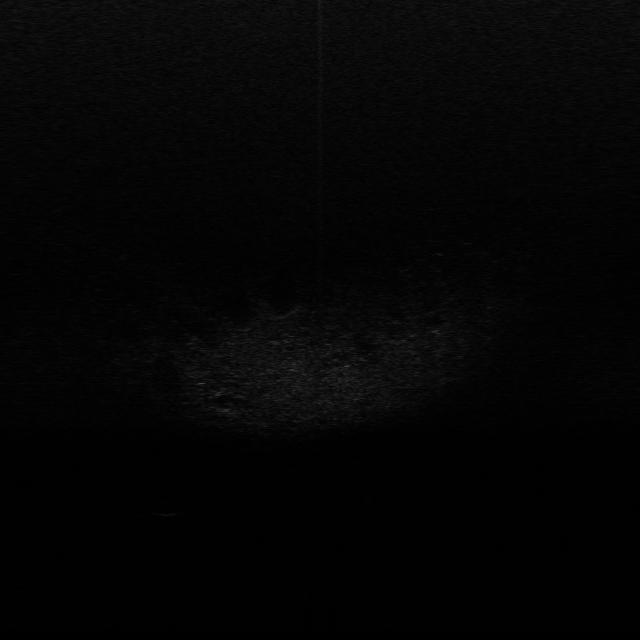ball: (154, 499, 180, 518)
